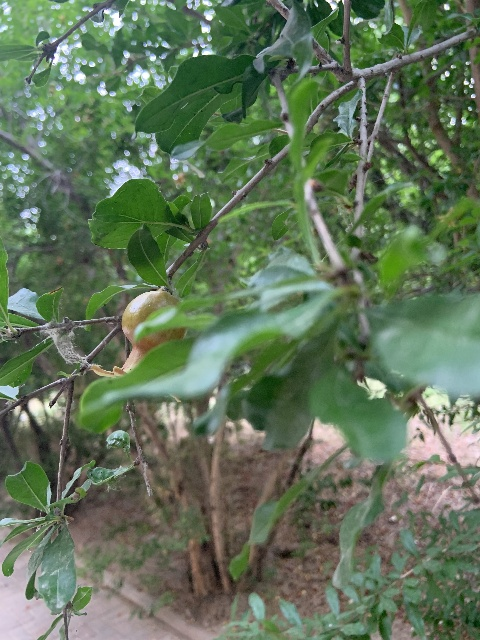mid-growth: (88, 290, 186, 402)
